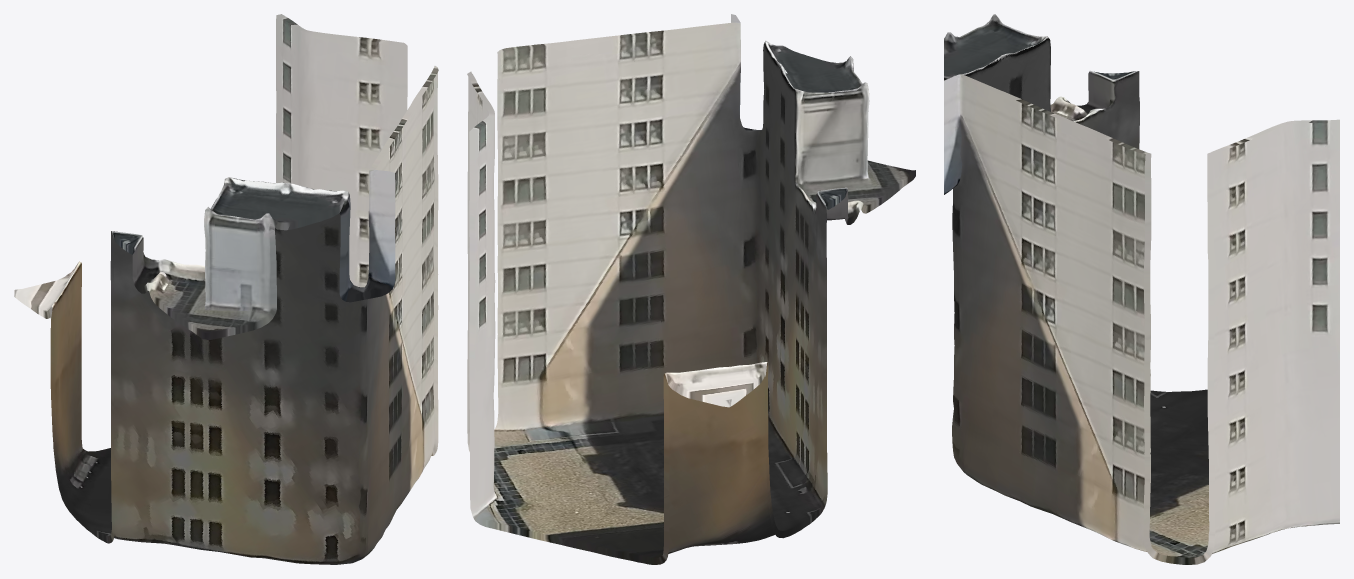
File: z20-167782-405231-h0-yup-uvflip-v3-world.glb
3 views of the same model, side by side, from view 1: azimuth 30°, elevation 25°; view 2: azimuth 150°, elevation 25°; view 3: azimuth 270°, elevation 25° (orthographic). The views are drawn at different scales.
Bounding box in the file's own units: 30.2 × 35.12 × 30.32.
1 material, 1 textured.
